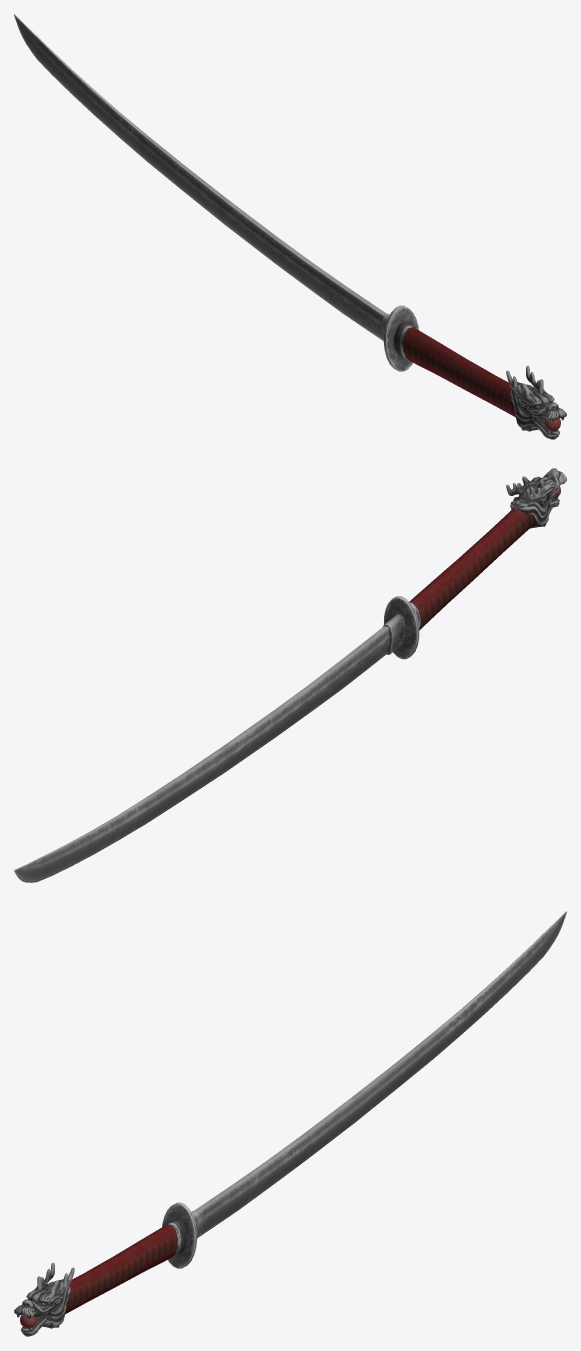
The model's file is katana_with_dragon.glb.
3 views of the same model, one above another, from view 1: azimuth 30°, elevation 25°; view 2: azimuth 150°, elevation 25°; view 3: azimuth 330°, elevation 25° (orthographic).
Parts seen in each view (by area): view 1: Cylinder.006; view 2: Cylinder.006; view 3: Cylinder.006.
Part boxes in pixels (x1,y1,x2,y2): Cylinder.006: (14,14,566,439); Cylinder.006: (14,468,566,882); Cylinder.006: (14,911,566,1336).
Size of the model in its own units: 0.0468 by 0.1146 by 1.3.
1 material, 1 textured.
